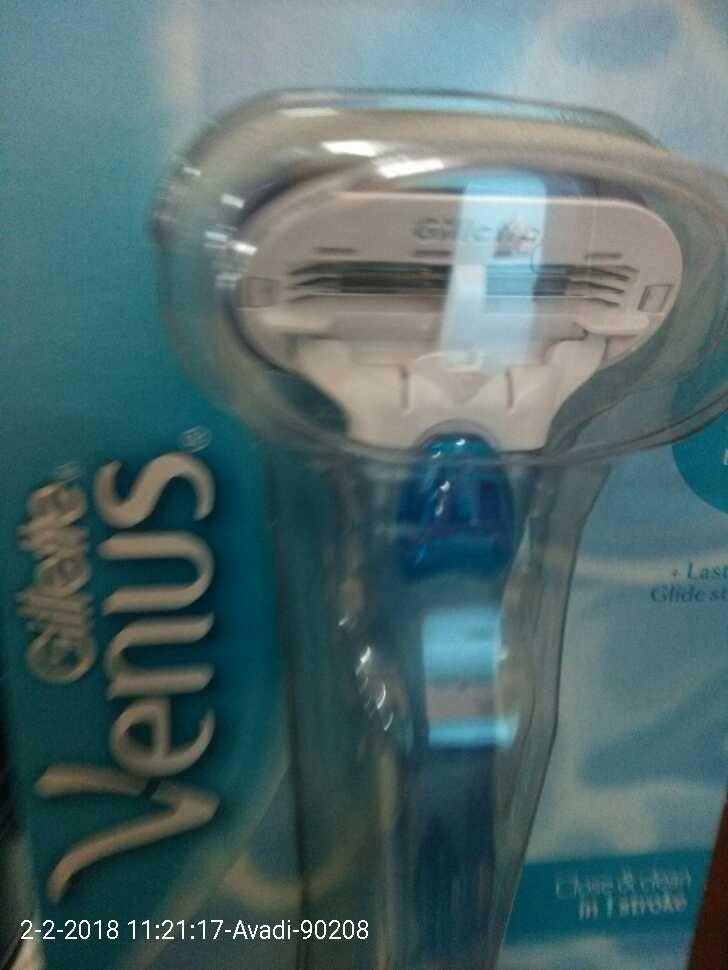venus: (157, 71, 728, 960)
